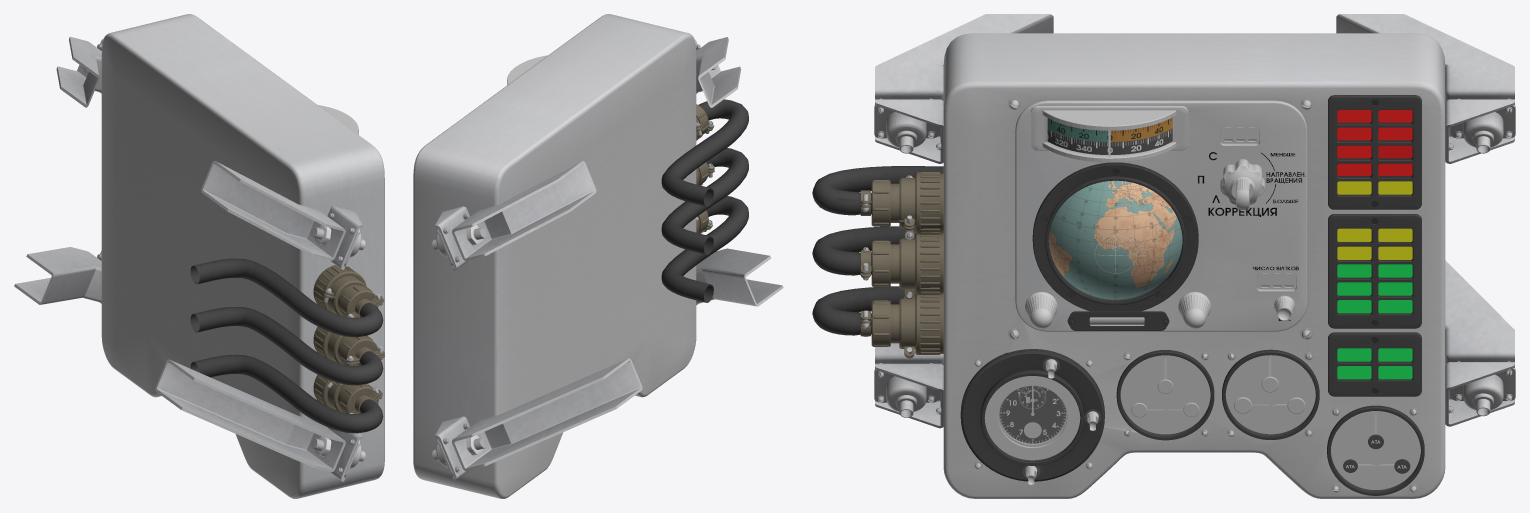
Rendered from PanelMain.fbx.
3 views of the same model, side by side, from view 1: azimuth 30°, elevation 25°; view 2: azimuth 150°, elevation 25°; view 3: azimuth 270°, elevation 25° (orthographic). The views are drawn at different scales.
Parts seen in each view (by area): view 1: MP_MPanel, MP_Fastening, MP_Cables, MP_Connectors, MP_CRings, MP_FSprings, MP_Bolts; view 2: MP_MPanel, MP_Fastening, MP_Cables, MP_Connectors, MP_FSprings, MP_Bolts; view 3: MP_MPanel, MP_Fastening, MP_Panel, MP_Globus, MP_GGlass, MP_Connectors, MP_Cables, MP_GBase, MP_CBase, MP_CSGlass, MP_EIGlass, MP_DMOIGlass (+22 smaller).
Boxes of the visible parts, box(x1,y1,x2,y2) form: MP_MPanel: box(101, 14, 384, 498); MP_Fastening: box(14, 36, 362, 481); MP_Cables: box(190, 258, 383, 433); MP_Connectors: box(313, 265, 378, 413); MP_CRings: box(346, 296, 384, 414); MP_FSprings: box(80, 65, 365, 468); MP_Bolts: box(97, 44, 383, 473); MP_MPanel: box(413, 14, 696, 498); MP_Fastening: box(435, 37, 783, 480); MP_Cables: box(661, 99, 748, 302); MP_Connectors: box(696, 104, 708, 233); MP_FSprings: box(432, 65, 717, 467); MP_Bolts: box(437, 44, 713, 472); MP_MPanel: box(943, 33, 1445, 498); MP_Fastening: box(875, 14, 1514, 428); MP_Panel: box(1328, 95, 1421, 396); MP_Globus: box(1048, 180, 1182, 299); MP_GGlass: box(1049, 181, 1181, 300); MP_Connectors: box(871, 172, 943, 358); MP_Cables: box(812, 166, 943, 335); MP_GBase: box(1032, 162, 1198, 311); MP_CBase: box(960, 349, 1104, 481); MP_CSGlass: box(985, 376, 1079, 460); MP_EIGlass: box(1331, 411, 1420, 491); MP_DMOIGlass: box(1121, 356, 1209, 435).
Bounding box in the file's own units: 21.82 × 30.58 × 46.75.
